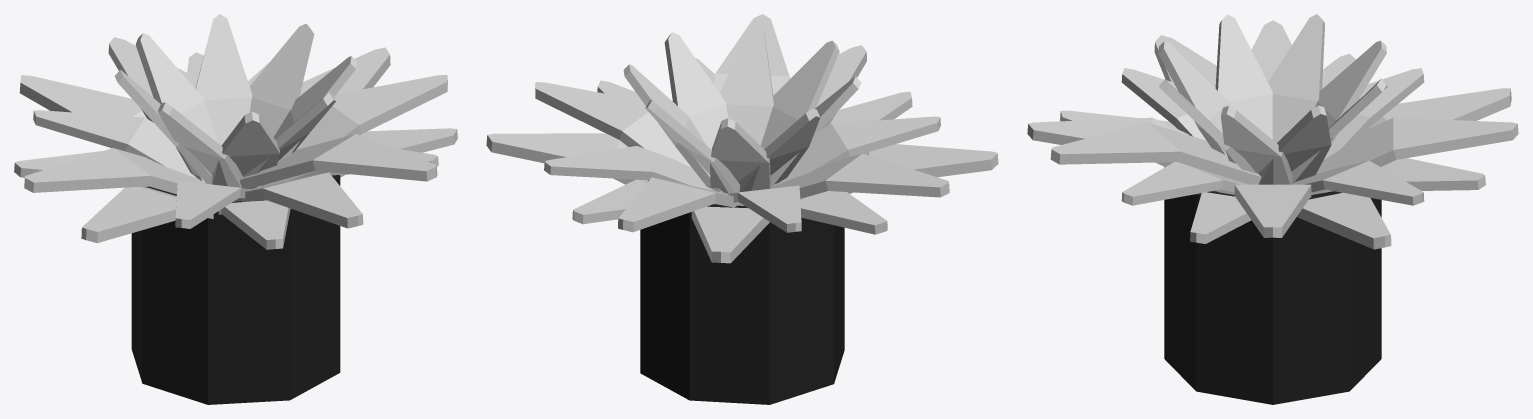
Rendered from Flowerpot.fbx.
The picture shows the model from 3 angles, left to right: view 1: azimuth 30°, elevation 25°; view 2: azimuth 150°, elevation 25°; view 3: azimuth 270°, elevation 25°; orthographic projection. The views are drawn at different scales.
Parts seen in each view (by area): view 1: Flower, Flowerpot; view 2: Flower, Flowerpot; view 3: Flower, Flowerpot.
Part boxes in pixels (box(x1,y1,x2,y2)): Flower: box(14, 14, 457, 249); Flowerpot: box(131, 175, 340, 404); Flower: box(486, 14, 998, 263); Flowerpot: box(640, 180, 844, 404); Flower: box(1027, 14, 1518, 249); Flowerpot: box(1164, 167, 1381, 404).
Size of the model in its own units: 1.52 by 1.02 by 1.52.
